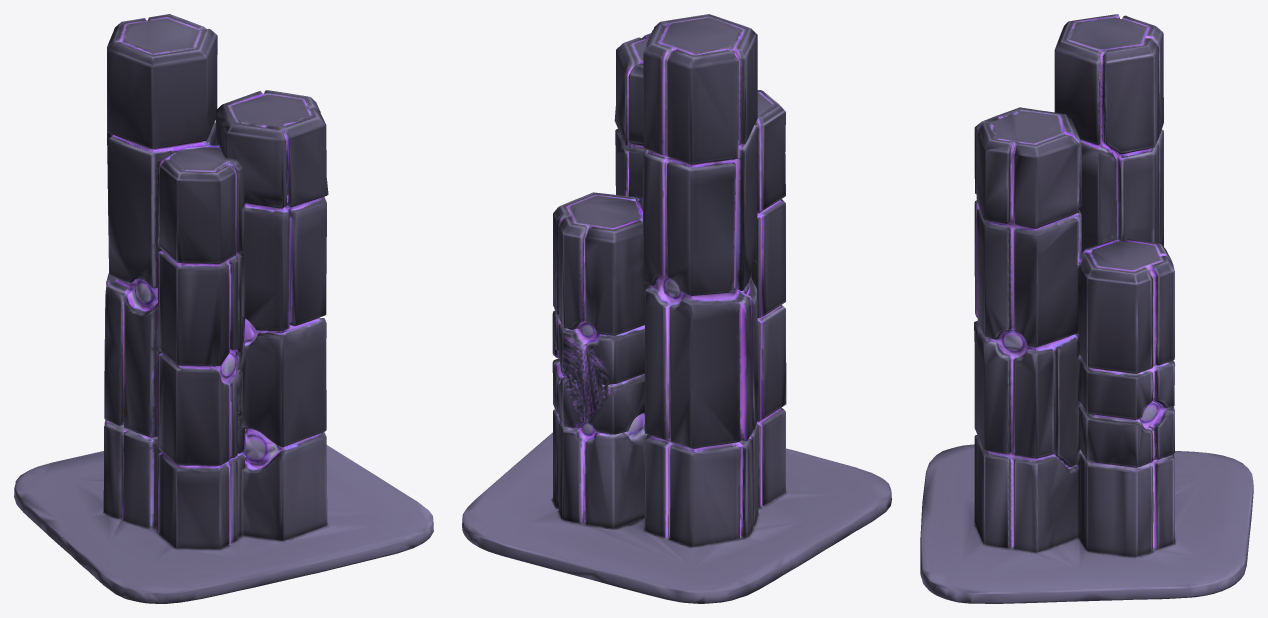
3 views of the same model, side by side, from view 1: azimuth 30°, elevation 25°; view 2: azimuth 150°, elevation 25°; view 3: azimuth 270°, elevation 25° (orthographic). The views are drawn at different scales.
Visible parts, largest first — view 1: repaired; view 2: repaired; view 3: repaired.
Boxes of the visible parts, x1=… form: repaired: x1=14, y1=14, x2=433, y2=603; repaired: x1=462, y1=14, x2=891, y2=603; repaired: x1=920, y1=14, x2=1253, y2=603.
Bounding box in the file's own units: 0.676 × 0.9995 × 0.636.
1 material, 1 textured.
